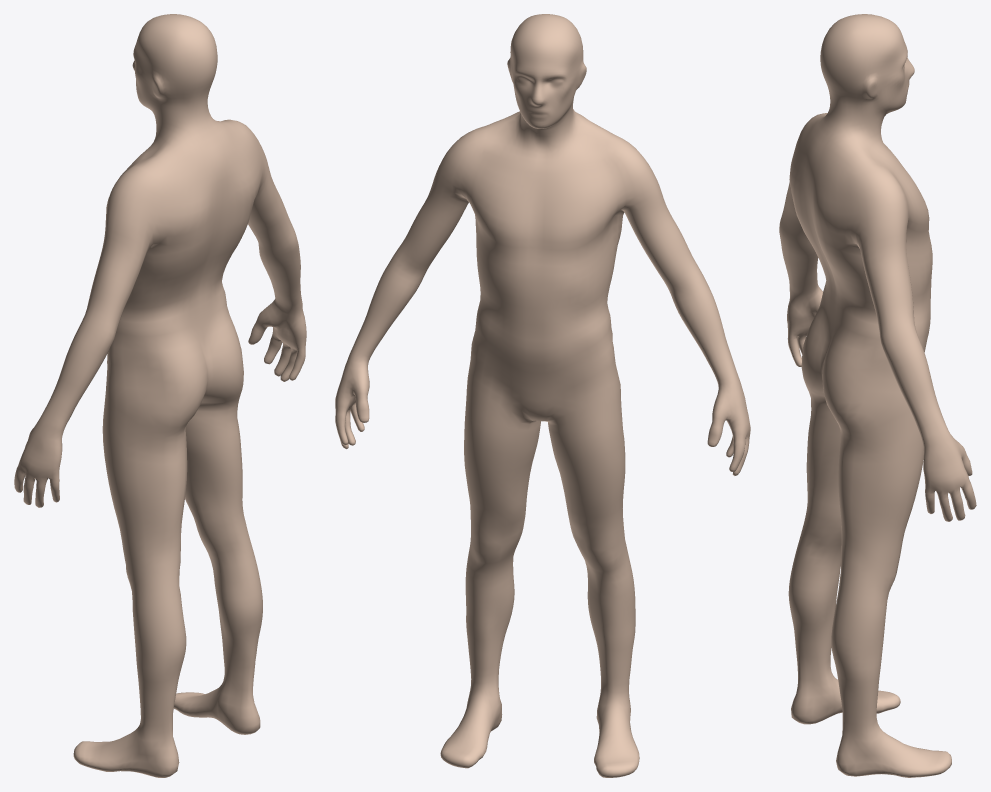
Rendered from human.fbx.
The picture shows the model from 3 angles, left to right: view 1: azimuth 30°, elevation 25°; view 2: azimuth 150°, elevation 25°; view 3: azimuth 270°, elevation 25°; orthographic projection.
Visible parts, largest first — view 1: HumanBody:humanBody; view 2: HumanBody:humanBody; view 3: HumanBody:humanBody.
Part boxes in pixels (bbox=[...]): HumanBody:humanBody: bbox=[14, 14, 306, 777]; HumanBody:humanBody: bbox=[335, 14, 750, 777]; HumanBody:humanBody: bbox=[779, 14, 976, 777].
Size of the model in its own units: 90.33 by 183 by 44.83.
